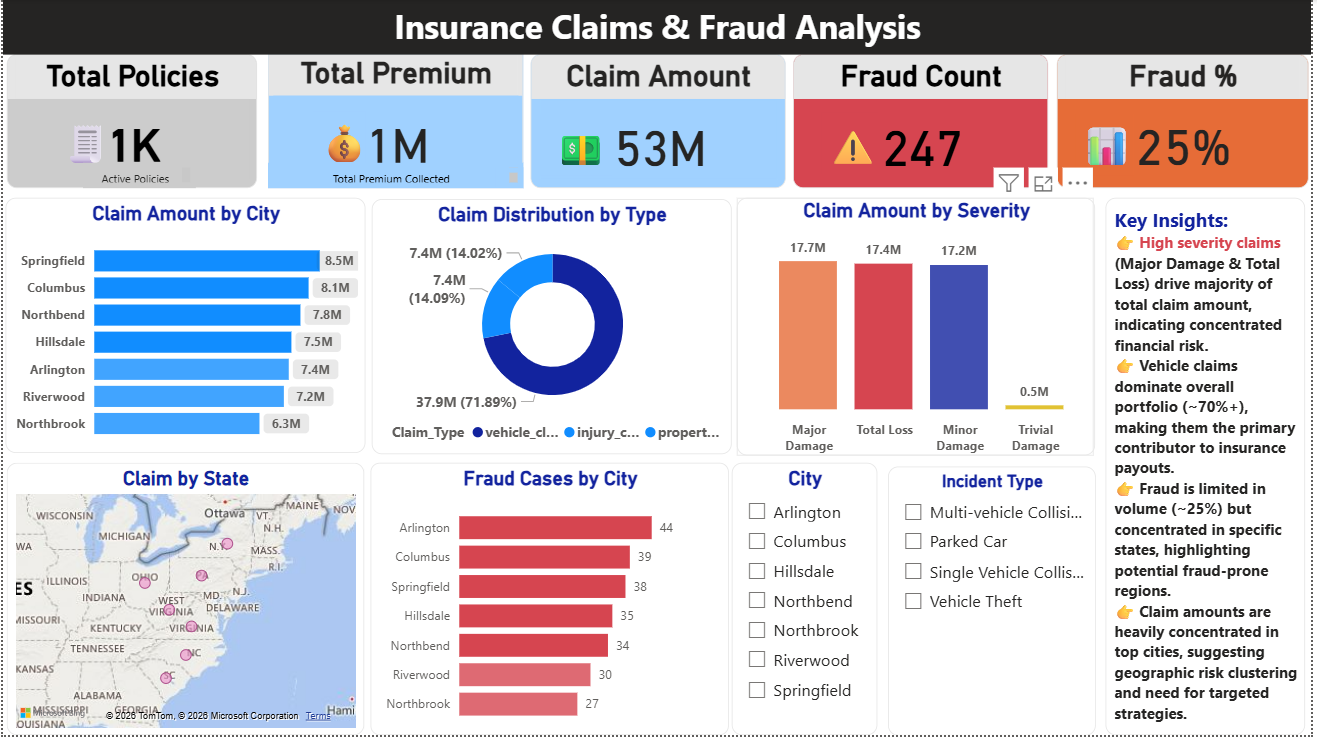

The dashboard page shown, as its layout file describes it:
{"tool":"powerbi","page":{"name":"Page 1","canvas":[1280,720],"ordinal":0},"visuals":[{"type":"cardVisual","title":"Claim Amount","fields":{"Data":["Fact_Claims.Total Claim Amount"]},"box":[516,54.2,249.4,131.1],"z":0},{"type":"cardVisual","title":"Total Premium","fields":{"Data":["Fact_Claims.Total Premium"]},"box":[258.7,54.2,249.4,131.1],"z":1000},{"type":"cardVisual","title":"Total Policies","fields":{"Data":["Fact_Claims.Total Policies"]},"box":[4.3,54.2,245.2,131.1],"z":2000},{"type":"cardVisual","title":"Fraud %","fields":{"Data":["Fact_Claims.Fraud %"]},"box":[1030.6,54.2,246,131.1],"z":3000},{"type":"textbox","box":[303.2,110,51.3,61.1],"z":4000},{"type":"textbox","box":[1049.1,112.6,57,59.9],"z":5000},{"type":"textbox","box":[526,112.6,69.8,59.9],"z":6000},{"type":"cardVisual","title":"Fraud Count","fields":{"Data":["Fact_Claims.Fraud Count"]},"box":[772.6,54.2,249.4,131.1],"z":7000},{"type":"textbox","box":[801.1,111.2,54.2,59.9],"z":8000},{"type":"textbox","box":[51.3,109.8,54.2,68.4],"z":9000},{"type":"textbox","box":[0,0,1280,54.2],"z":10000},{"type":"barChart","title":"Claim Amount by City","fields":{"Y":["Fact_Claims.Total Claim Amount"],"Category":["Dim_Incident.incident_city"]},"box":[2.9,193.9,352.1,249.4],"z":11000},{"type":"donutChart","title":"Claim Distribution by Type","fields":{"Y":["Sum(claim_type_table.Value)"],"Category":["claim_type_table.Claim_Type"]},"box":[360.6,195.3,352.1,249.4],"z":12000},{"type":"clusteredColumnChart","title":"Claim Amount by Severity","fields":{"Category":["Dim_Incident.incident_severity"],"Y":["Fact_Claims.Total Claim Amount"]},"box":[717,193.9,350.6,252.3],"z":13000},{"type":"barChart","title":"Fraud Cases by City","fields":{"Y":["Fact_Claims.Fraud Count"],"Category":["Dim_Incident.incident_city"]},"box":[359.2,453.3,350.6,266.5],"z":14000},{"type":"textbox","box":[1078.2,194.4,195.6,525.6],"z":15000},{"type":"map","title":"Claim by State","fields":{"Category":["Dim_Incident.incident_state"]},"box":[4.3,453.3,349.2,266.5],"z":16000},{"type":"slicer","title":"City","fields":{"Values":["Dim_Incident.incident_city"]},"box":[712.7,453.3,142.5,266.5],"z":17000},{"type":"slicer","title":"Incident Type","fields":{"Values":["Dim_Incident.incident_type"]},"box":[865.5,457.2,202.9,262.8],"z":18000},{"type":"textbox","box":[78.2,160.1,110,24.4],"z":19000},{"type":"textbox","box":[259.2,160.1,249.4,24.4],"z":20000},{"type":"textbox","box":[481.6,165,26.9,19.6],"z":21000}]}

Visuals, with their boxes in screenshot pixels (x1, y1, x2, y2), scaled from the page's 1280x720 canvas onto the 1317x737 screenshot:
"Claim Amount" cardVisual: locate(531, 55, 788, 190)
"Total Premium" cardVisual: locate(266, 55, 523, 190)
"Total Policies" cardVisual: locate(4, 55, 257, 190)
"Fraud %" cardVisual: locate(1060, 55, 1314, 190)
textbox: locate(312, 113, 365, 175)
textbox: locate(1079, 115, 1138, 177)
textbox: locate(541, 115, 613, 177)
"Fraud Count" cardVisual: locate(795, 55, 1052, 190)
textbox: locate(824, 114, 880, 175)
textbox: locate(53, 112, 109, 182)
textbox: locate(0, 0, 1316, 55)
"Claim Amount by City" barChart: locate(3, 198, 365, 454)
"Claim Distribution by Type" donutChart: locate(371, 200, 733, 455)
"Claim Amount by Severity" clusteredColumnChart: locate(738, 198, 1098, 457)
"Fraud Cases by City" barChart: locate(370, 464, 730, 736)
textbox: locate(1109, 199, 1311, 736)
"Claim by State" map: locate(4, 464, 364, 736)
"City" slicer: locate(733, 464, 880, 736)
"Incident Type" slicer: locate(891, 468, 1099, 736)
textbox: locate(80, 164, 194, 189)
textbox: locate(267, 164, 523, 189)
textbox: locate(496, 169, 523, 189)
